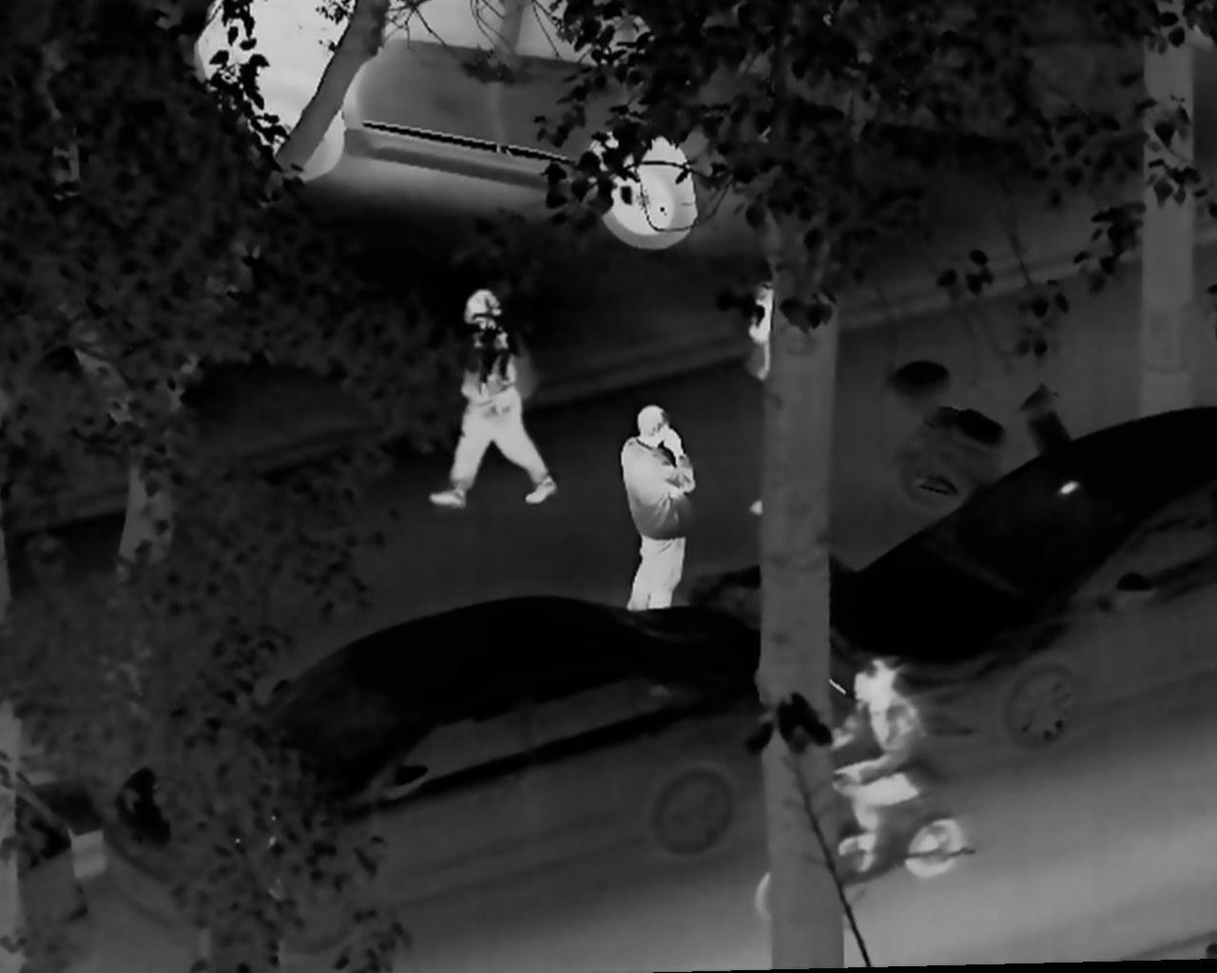person: (429, 285, 557, 514), (830, 654, 934, 875), (611, 397, 695, 618), (747, 277, 782, 520)
